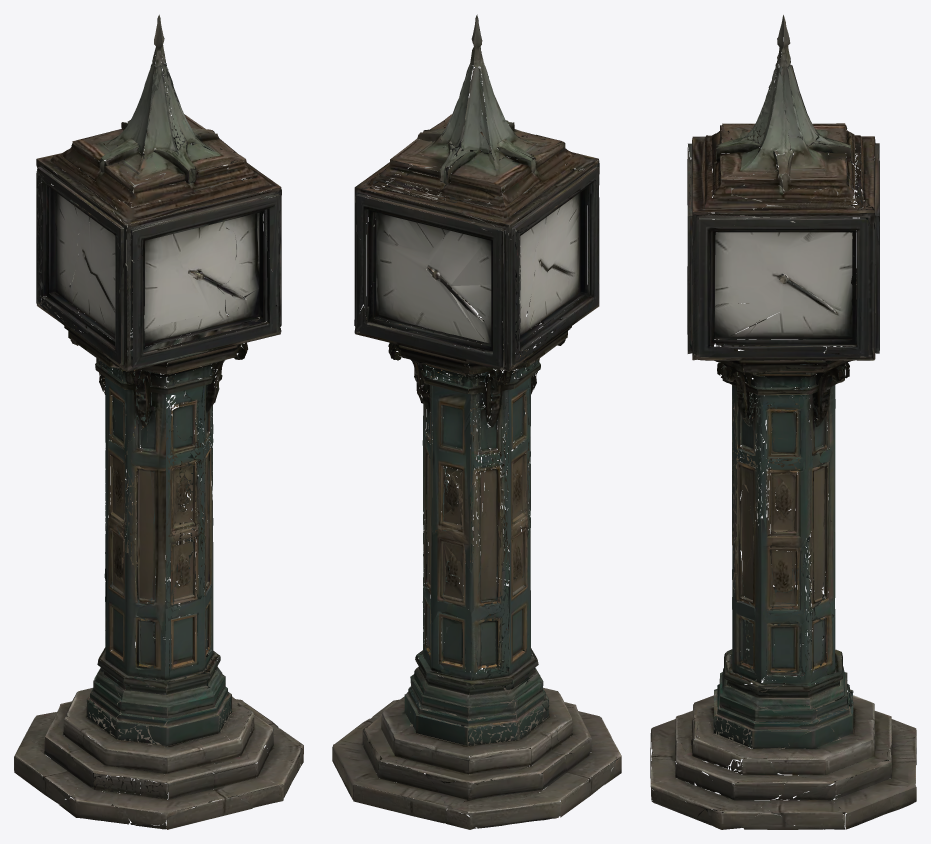
File: clock_tower_web.glb
The picture shows the model from 3 angles, left to right: view 1: azimuth 30°, elevation 25°; view 2: azimuth 150°, elevation 25°; view 3: azimuth 270°, elevation 25°; orthographic projection.
Parts seen in each view (by area): view 1: clock_tower; view 2: clock_tower; view 3: clock_tower.
Boxes of the visible parts, x1,y1,x2,y2 form: clock_tower: [14, 14, 303, 829]; clock_tower: [332, 14, 621, 829]; clock_tower: [650, 15, 916, 829].
Bounding box in the file's own units: 1.65 × 5.2 × 1.65.
1 material, 1 textured.
